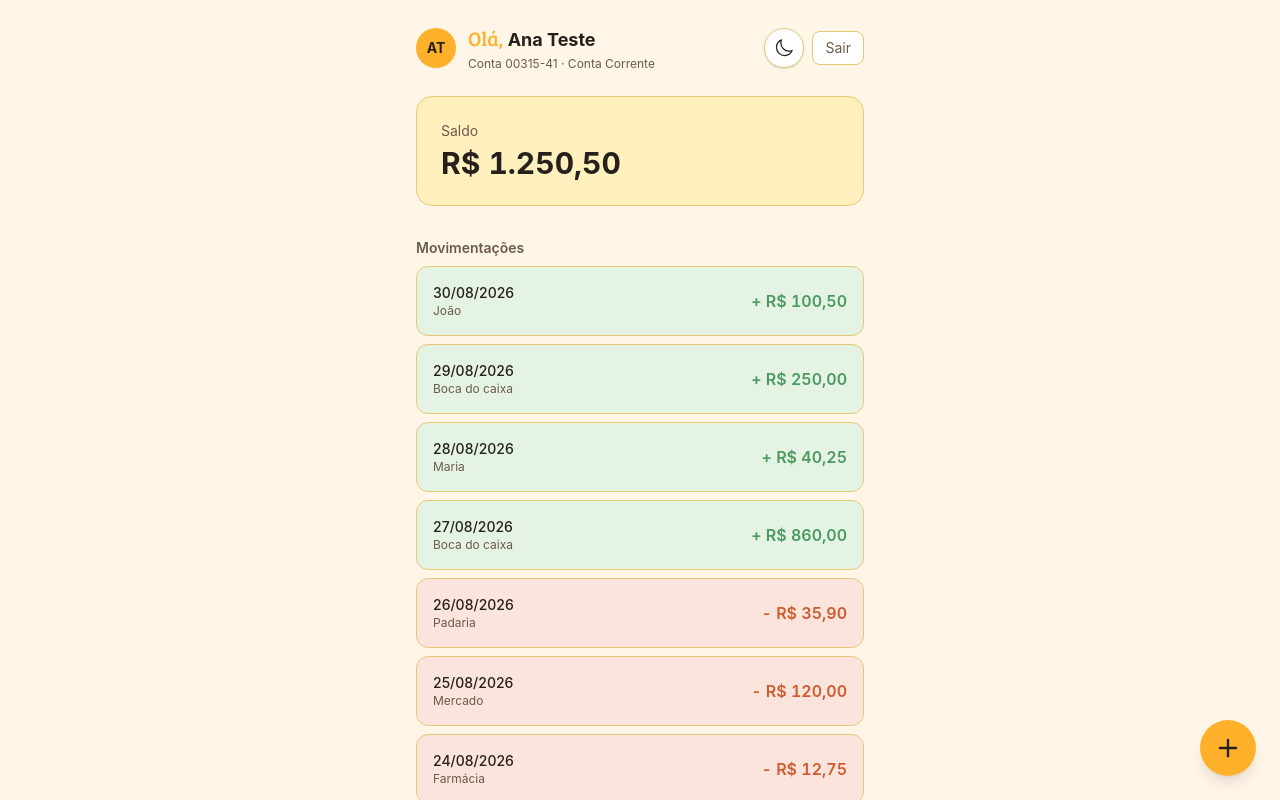
it: ExtratoPage › fecha o modal de movimentação pelo Cancelar
Click the button named "Nova movimentação" at (1228, 748), box [1200,720,1256,776]
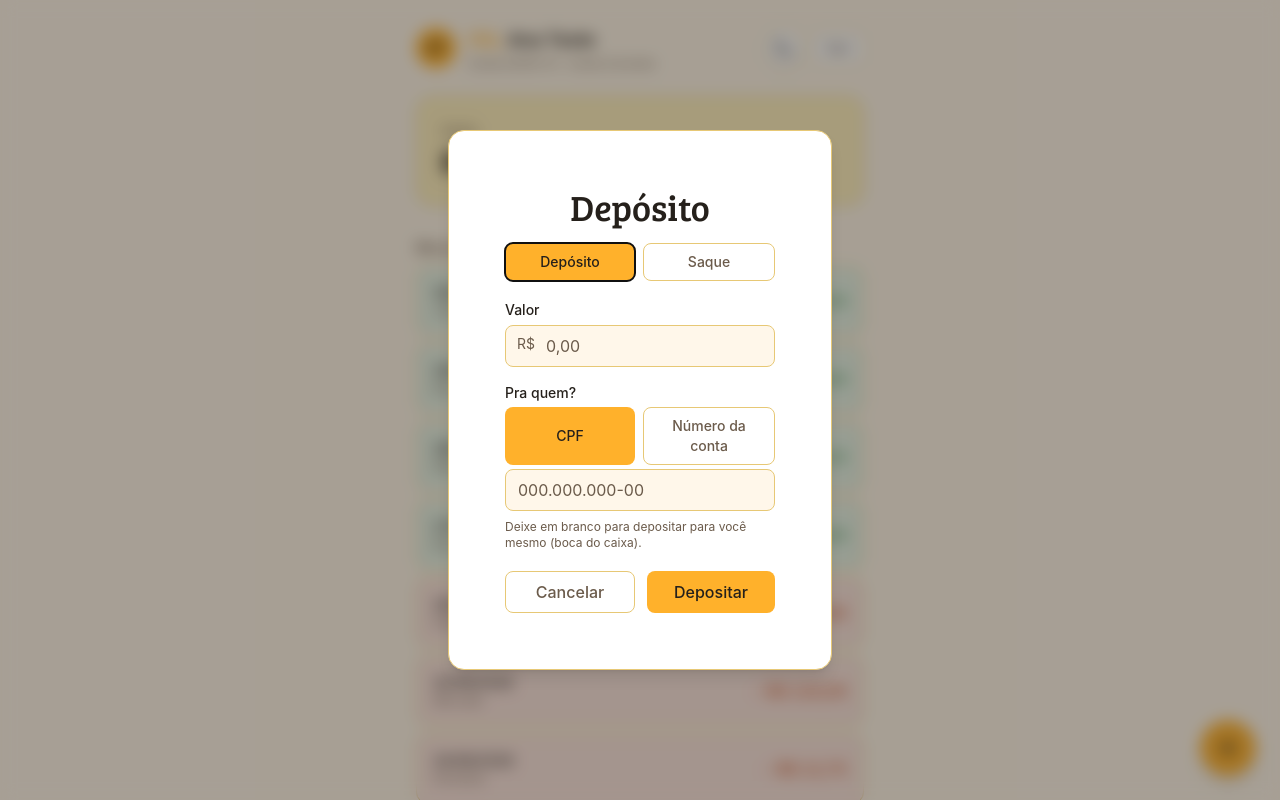
Click the button "Cancelar" at (570, 592), box [505,571,635,613]
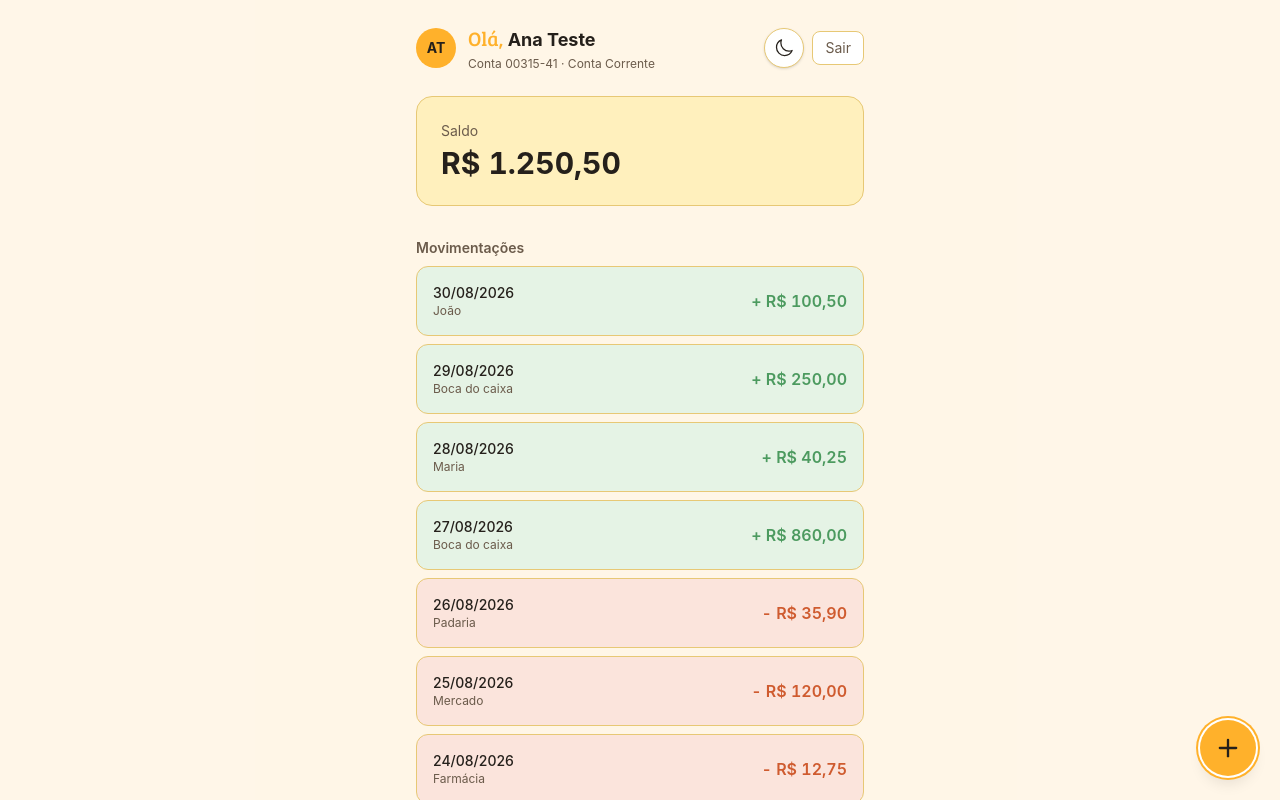
Expected: the dialog is gone
